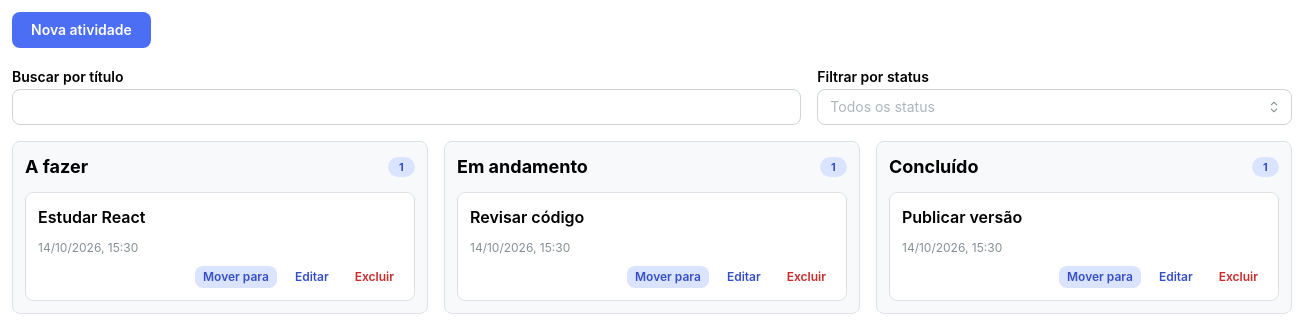
Test: KanbanBoard › busca e filtro › envia a busca à API (com debounce) e exibe só os títulos correspondentes
This screenshot has width=1304, height=331.
expect the text "Estudar React" is shown: met, box top-left (38, 207), bottom-right (146, 227)
Type "rev" into the field labelled "Buscar por título".
click(407, 107); type("rev")  # box top-left (12, 89), bottom-right (801, 125)
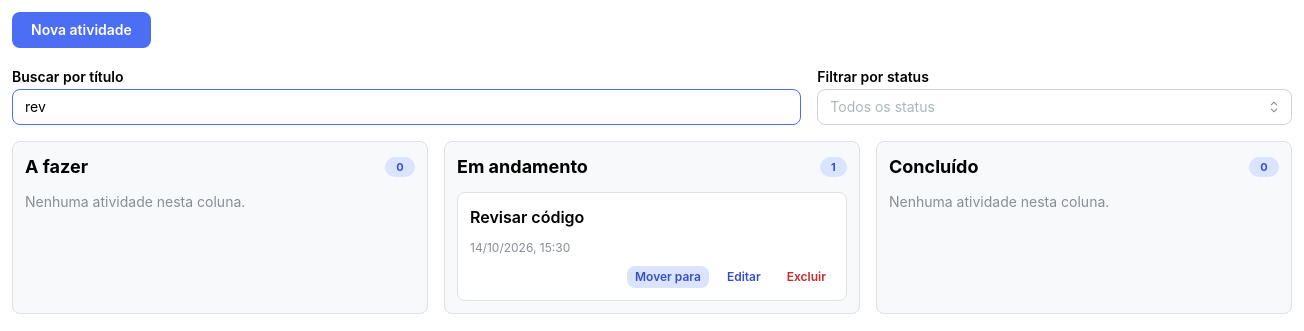
expect the text "Revisar código" is shown: met, box top-left (470, 207), bottom-right (584, 227)
expect the text "Estudar React" is gone: met
